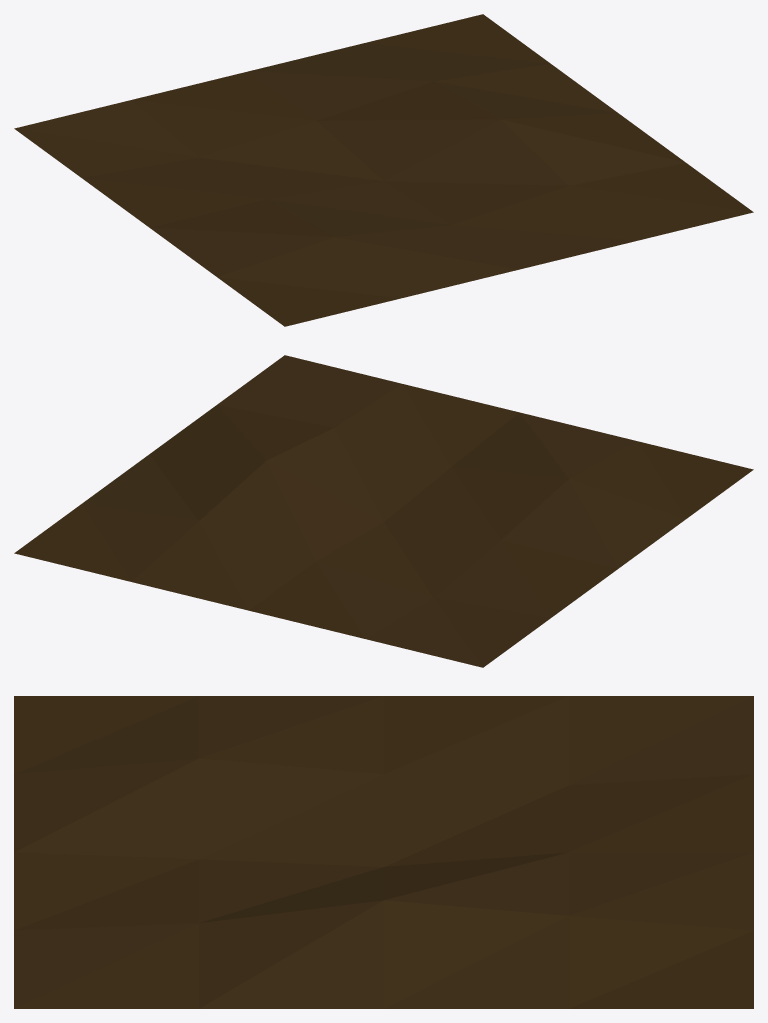
File: Ground1.fbx
3 renders of one model, top to bottom at view 1: azimuth 30°, elevation 25°; view 2: azimuth 150°, elevation 25°; view 3: azimuth 270°, elevation 25°, orthographic. The views are drawn at different scales.
Visible parts, largest first — view 1: 平面; view 2: 平面; view 3: 平面.
Part boxes in pixels (bbox=[...]): 平面: bbox=[14, 14, 753, 326]; 平面: bbox=[14, 355, 753, 667]; 平面: bbox=[14, 696, 753, 1008].
Bounding box in the file's own units: 3.99 × 0.2672 × 3.99.
